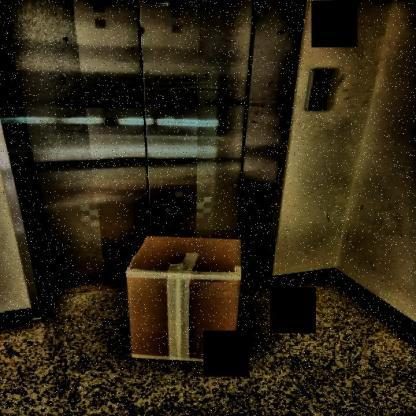-: (120, 230, 247, 372)
